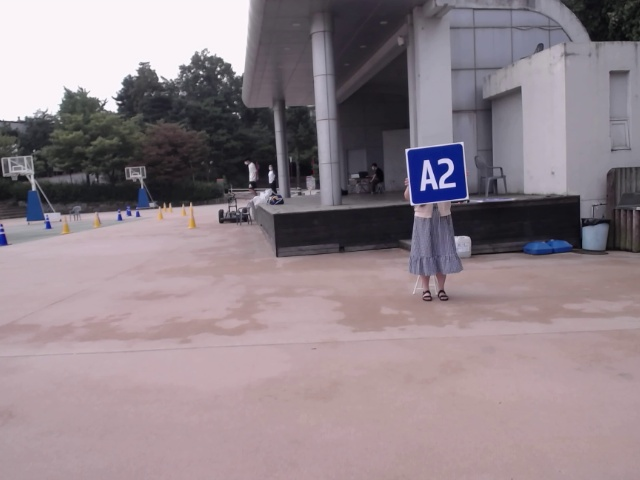delivery_a2: (406, 143, 468, 205)
